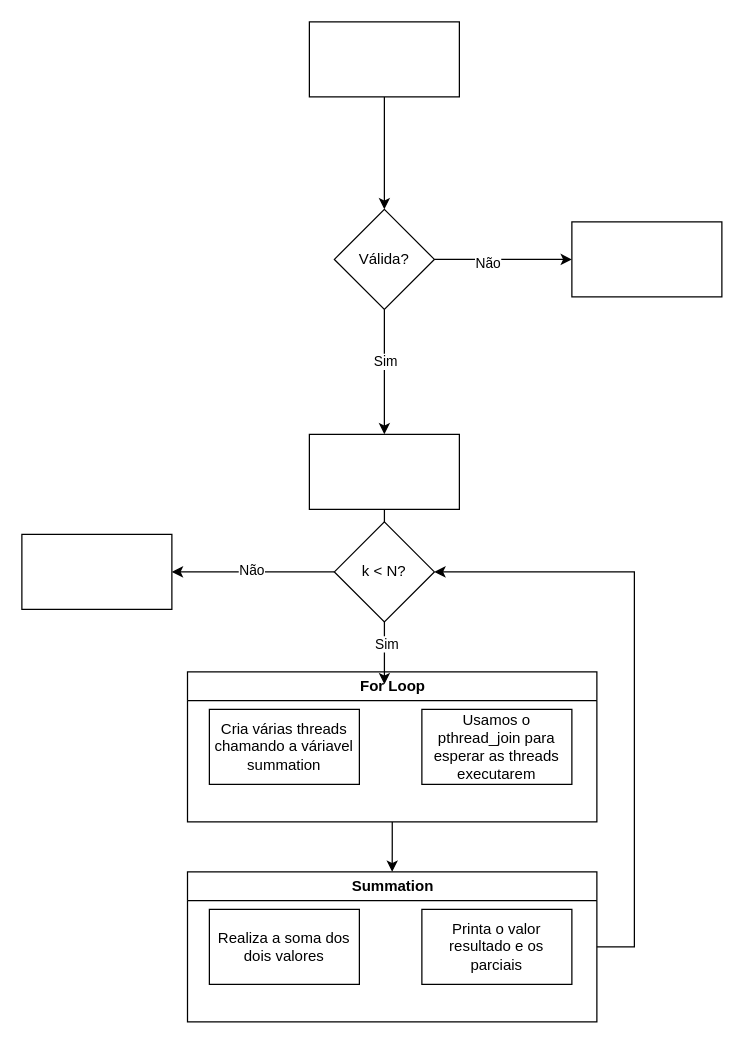
Some shapes in this 744 by 1044 pixel diagram are drawn without their labels. Here are the shapes that lost their labels. From the top down, the centre of each, then its label:
At point 383,59: "Entrada".
At point 646,259: "Fecha o programa".
At point 383,471: "Cria as variáveis das threads".
At point 96,571: "Finaliza Threads".
